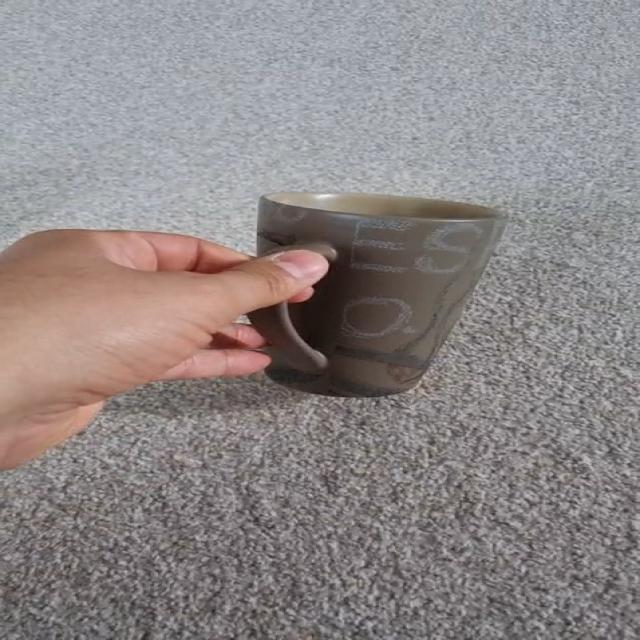Cup: (249, 193, 505, 397)
